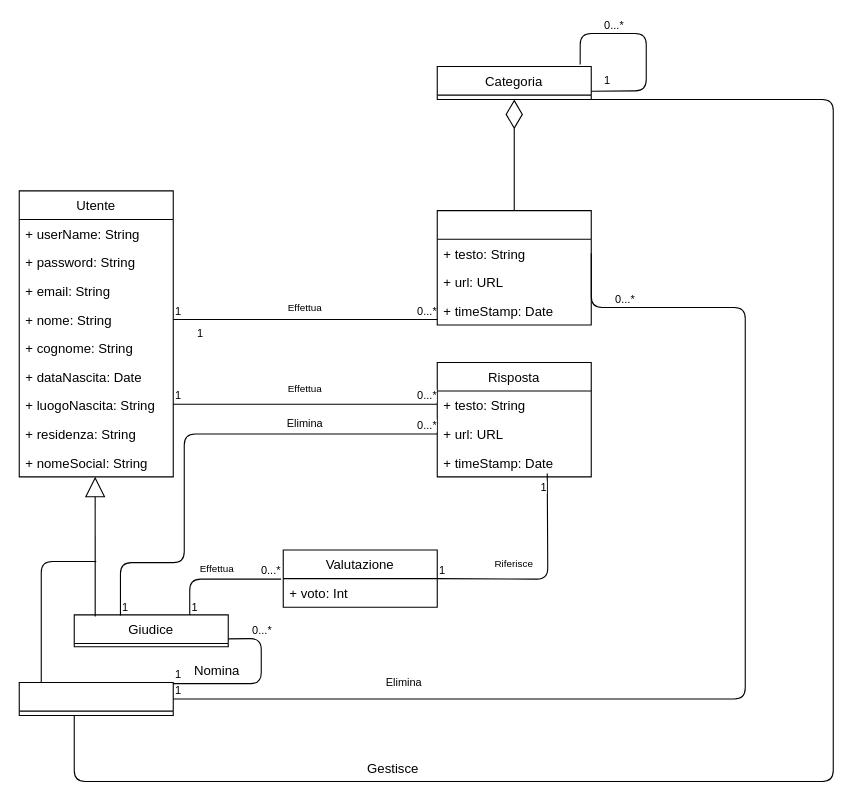
The diagram is 854 pixels wide and 803 high, and some of its shapes have lost their labels. Each missing label, with the box of its shape:
Admin: (18, 681, 173, 716)
Domanda: (436, 210, 591, 325)
